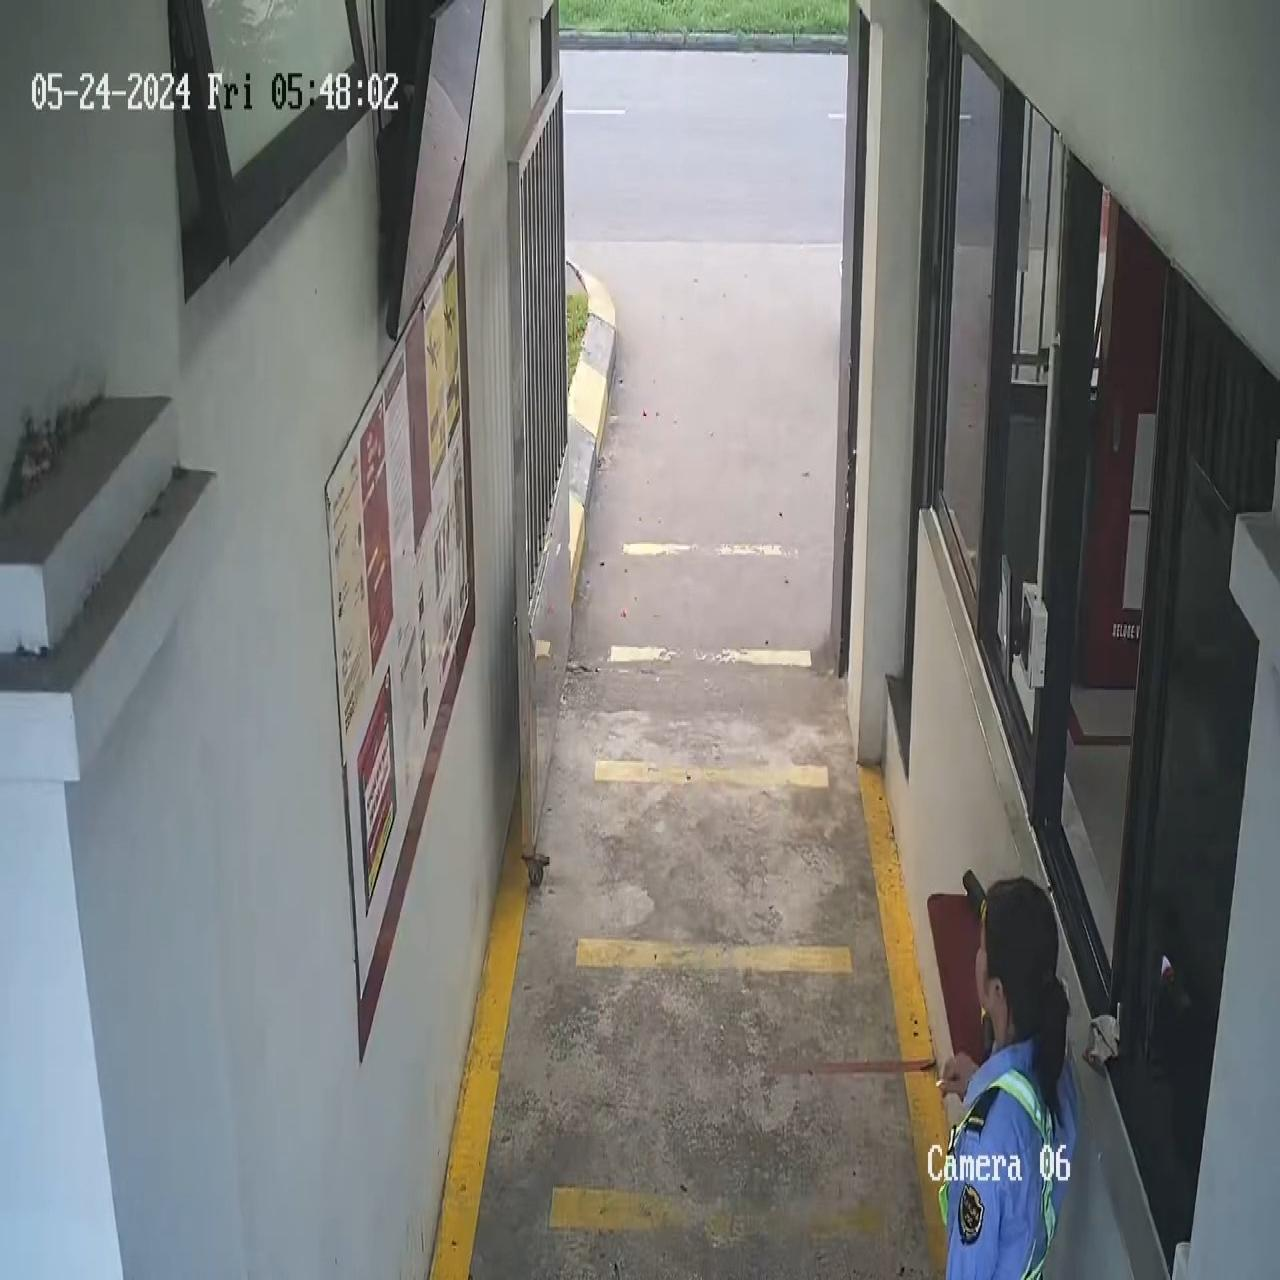guard: (933, 871, 1080, 1276)
